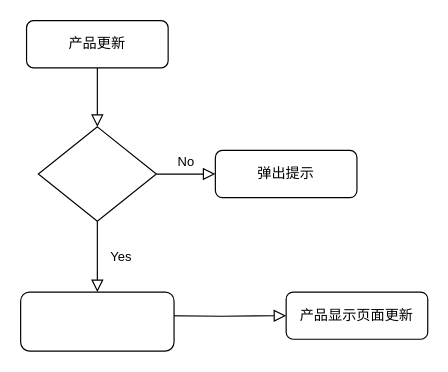
This 448x372 diagram has some shape labels left out. The box of each missing label's shape, as (x1, y1, x2, y2) in pixels:
产品属性增删改查: (19, 291, 174, 351)
验证权限: (37, 126, 156, 221)
